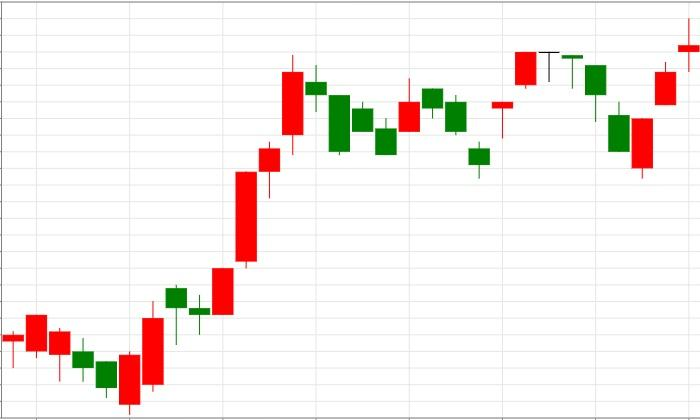bullish_engulfing_rise: (26, 314, 140, 415)
